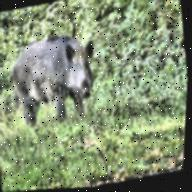boar: (0, 13, 123, 147)
